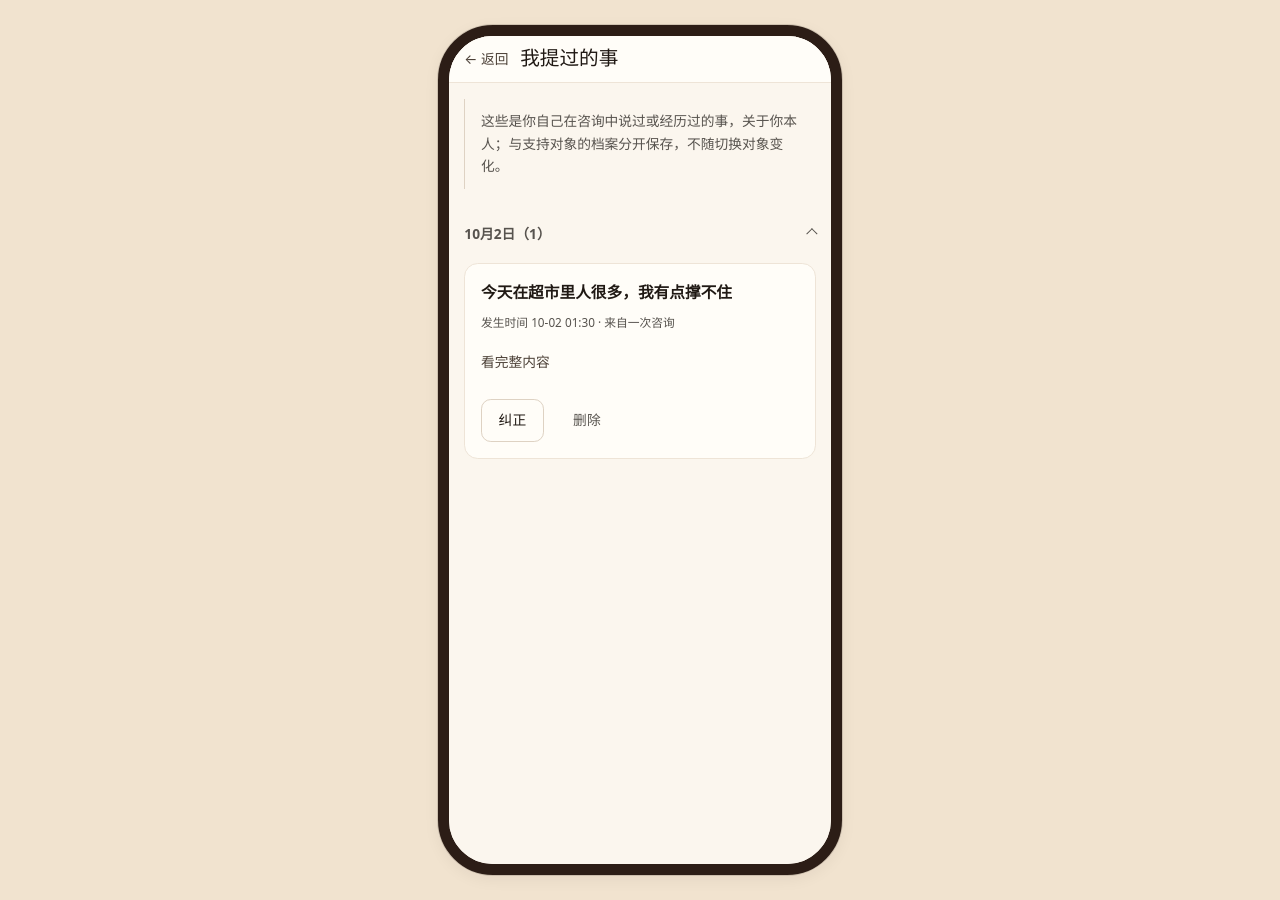
Test: 记忆页 · 删除 › P0 删除须二次确认，文案与档案页同源但语义不同
expect the text "今天在超市里人很多，我有点撑不住" is shown: met, box [481,281,732,303]
Click the button "删除" at (587, 421), box [556,399,618,442]
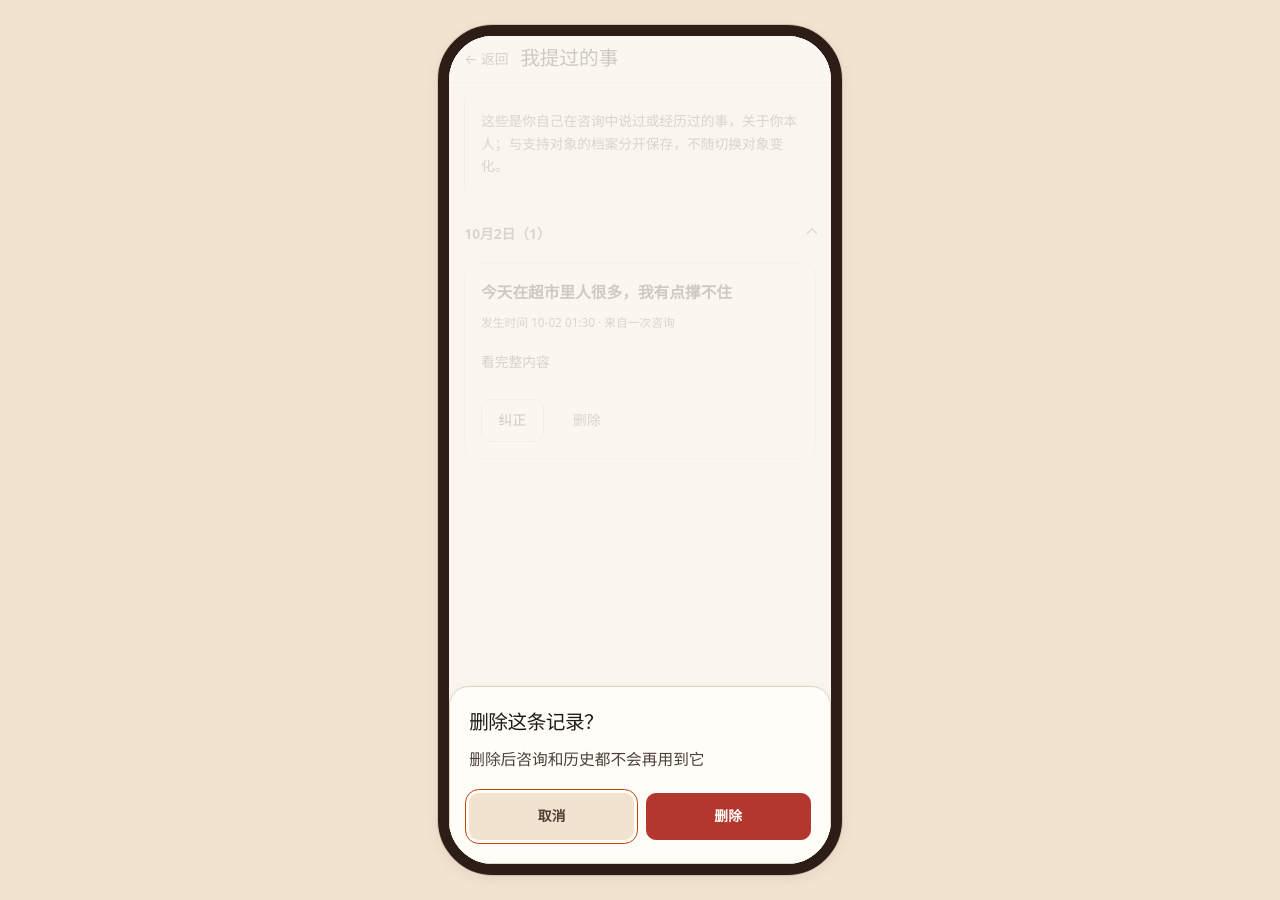
expect the heading "删除这条记录？" is shown: met, box [469,712,603,733]
expect the text "删除后咨询和历史都不会再用到它" is shown: met, box [469,748,704,770]
